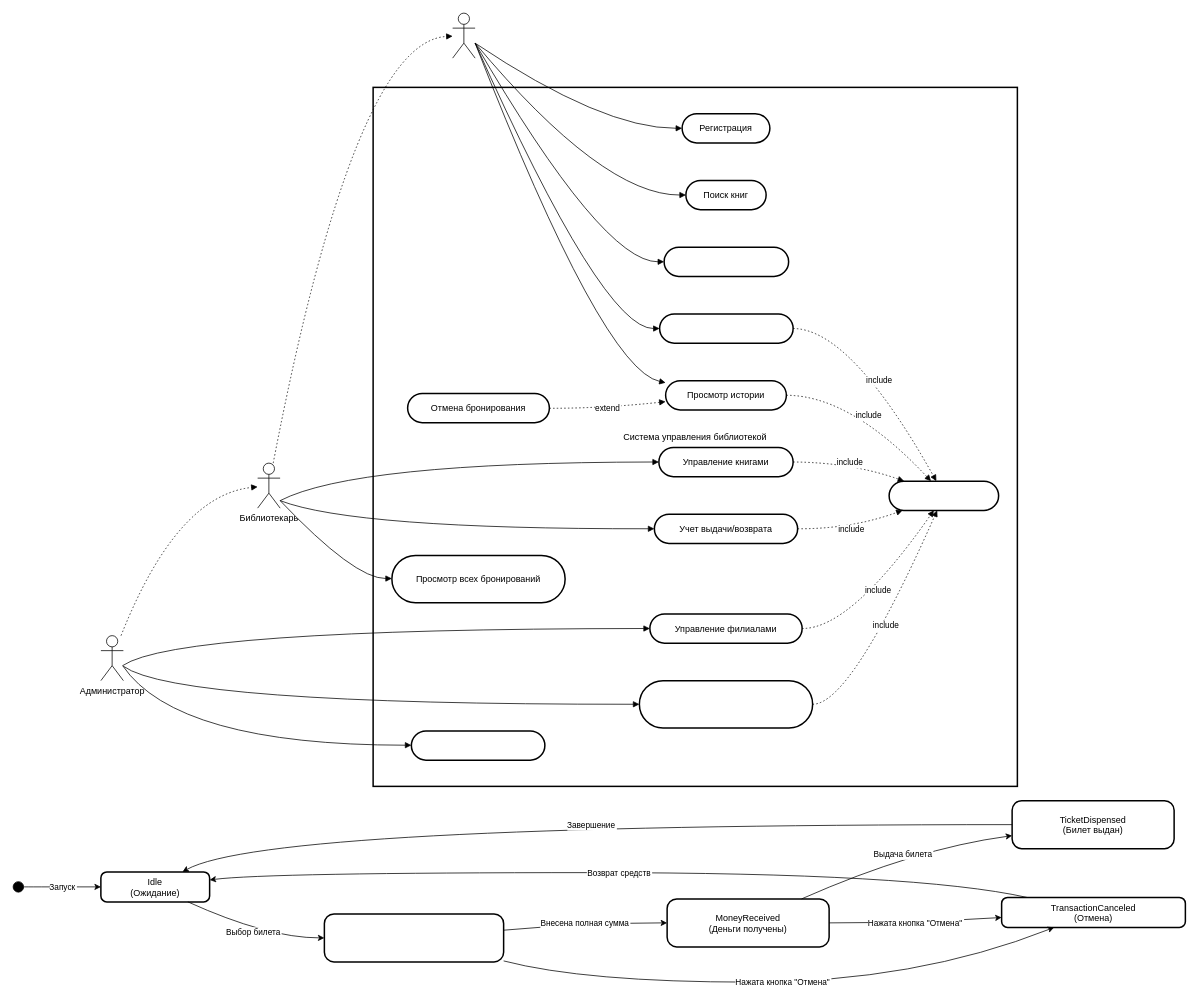
The diagram is 1199 pixels wide and 1000 high, and some of its shapes have lost their labels. The centre of each missing label's shape, as x and y in pixels:
"WaitingForMoney (Ожидание оплаты)" belongs at (413,937).
"Бронирование книги" belongs at (726,328).
"Войти в систему" belongs at (943,495).
"Просмотр аналитики" belongs at (477,745).
"Просмотр каталога" belongs at (726,261).
"Управление пользователями" belongs at (725,704).
"Читатель" belongs at (463,35).
